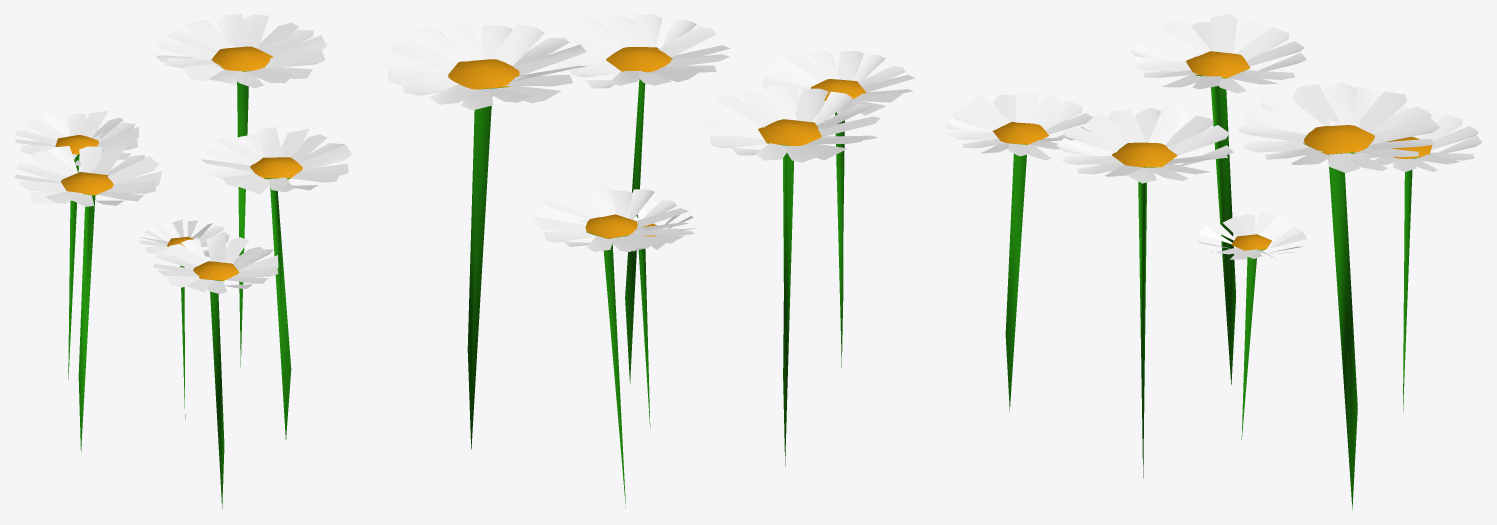
Rendered from SM_Camomile_001_LOD2.fbx.
3 renders of one model, left to right at view 1: azimuth 30°, elevation 25°; view 2: azimuth 150°, elevation 25°; view 3: azimuth 270°, elevation 25°, orthographic. The views are drawn at different scales.
Parts seen in each view (by area): view 1: Camomile; view 2: Camomile; view 3: Camomile.
Part boxes in pixels (x1,y1,x2,y2): Camomile: (14,14,351,508); Camomile: (380,14,915,507); Camomile: (944,14,1482,509).
Size of the model in its own units: 32.34 by 29.4 by 37.17.
